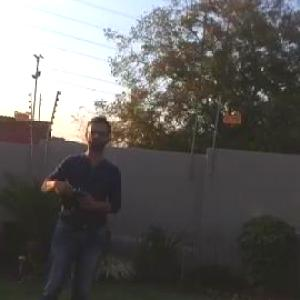follow: (28, 113, 128, 299)
